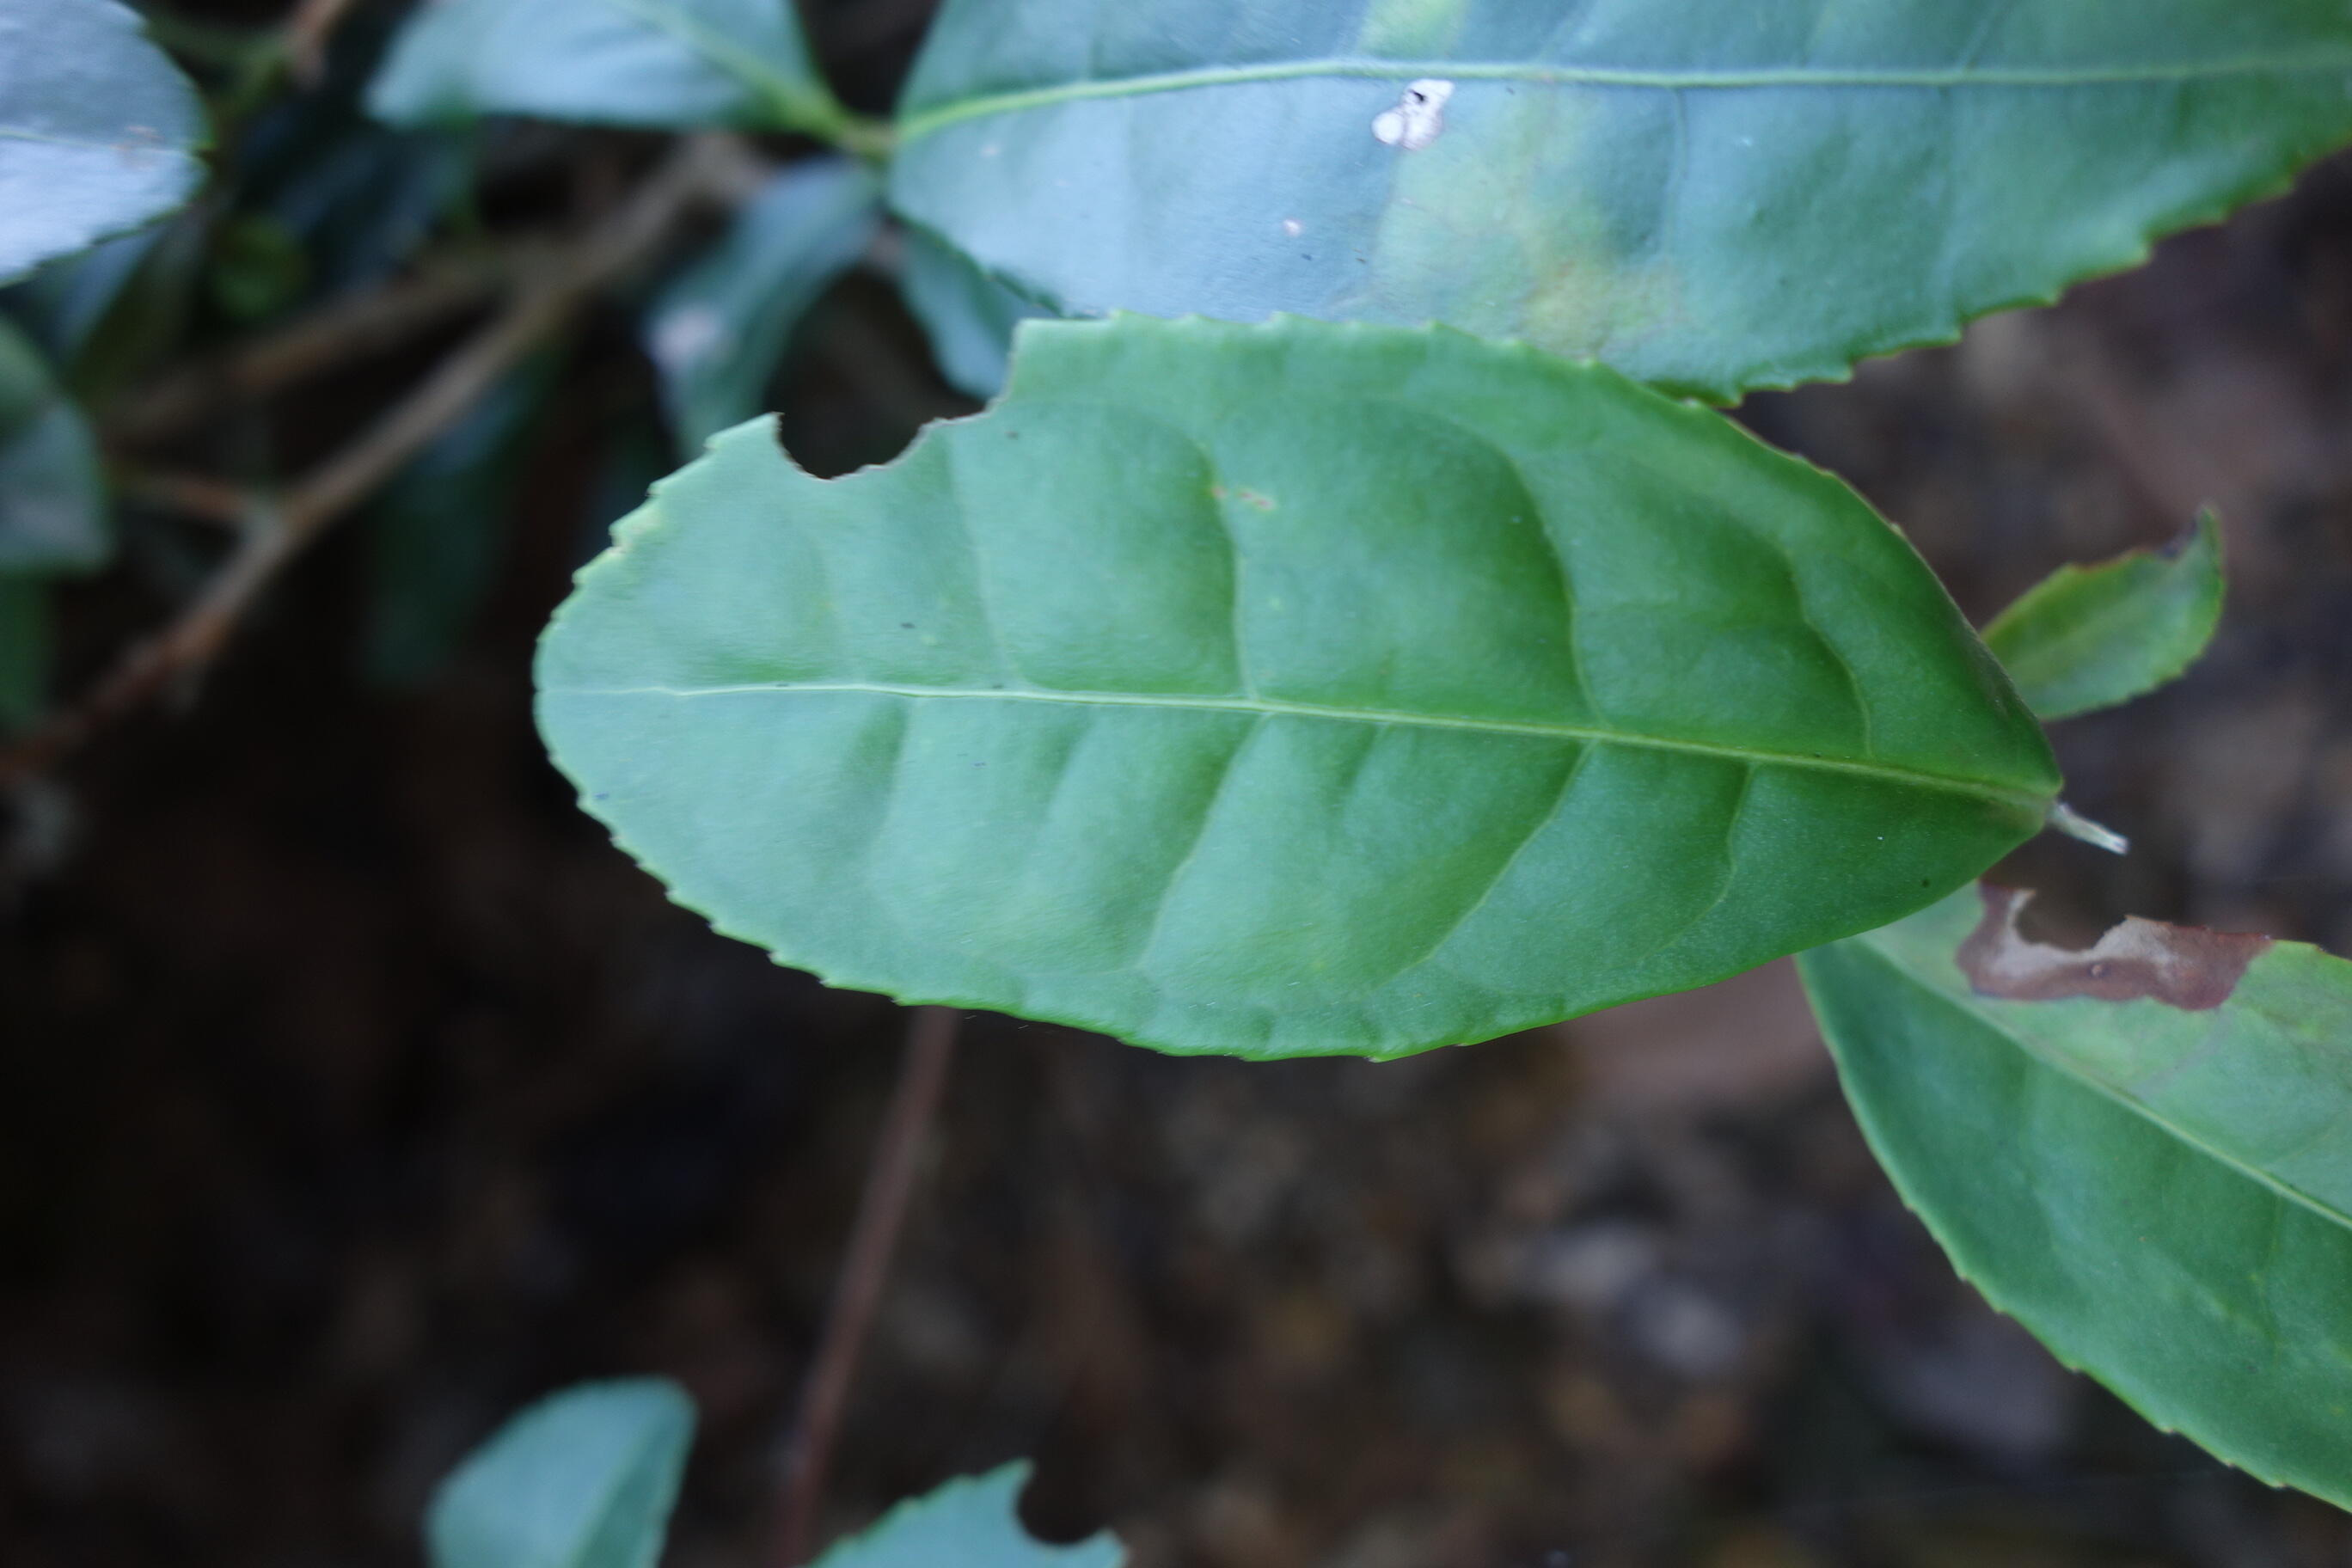chihuo_low: (499, 308, 2070, 1073)
tanju_high: (1832, 880, 2352, 1505)
